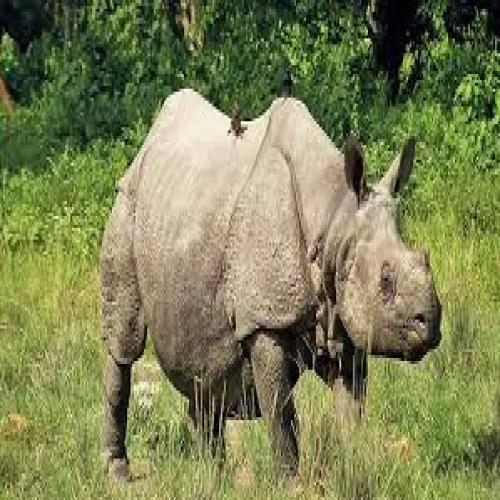rhino-endangered: (100, 88, 442, 478)
